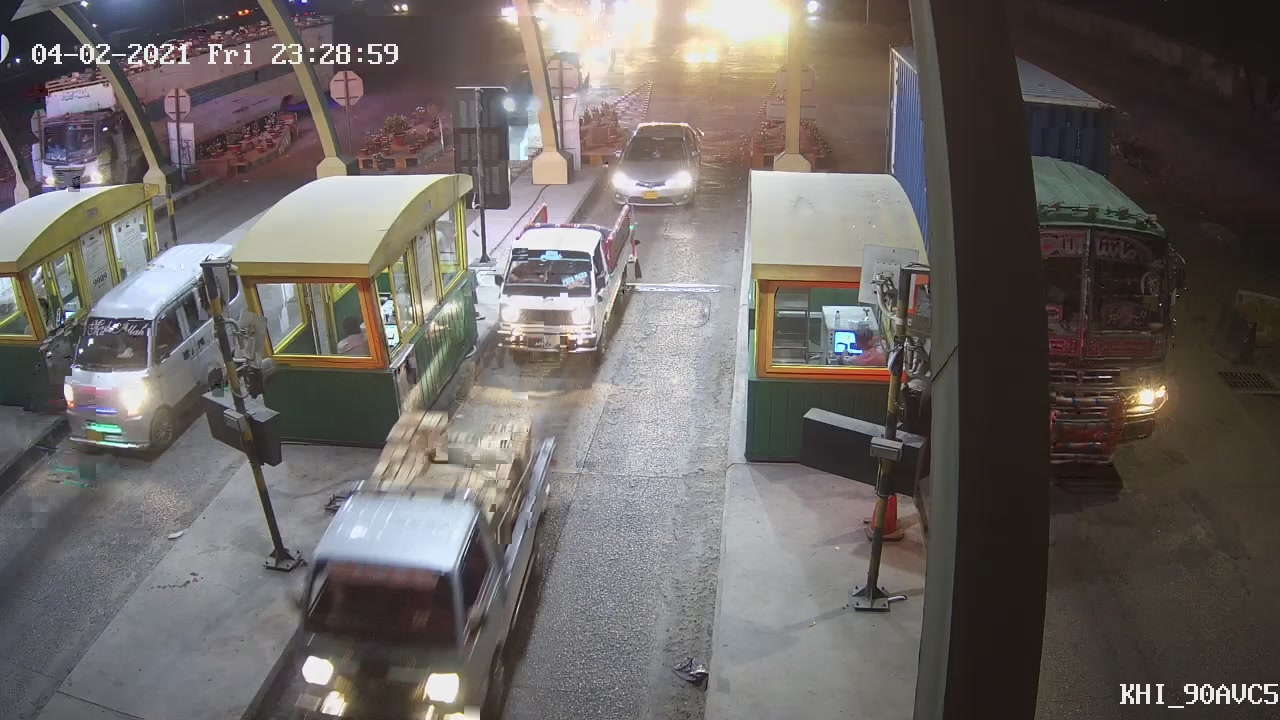F1: (491, 200, 640, 363)
